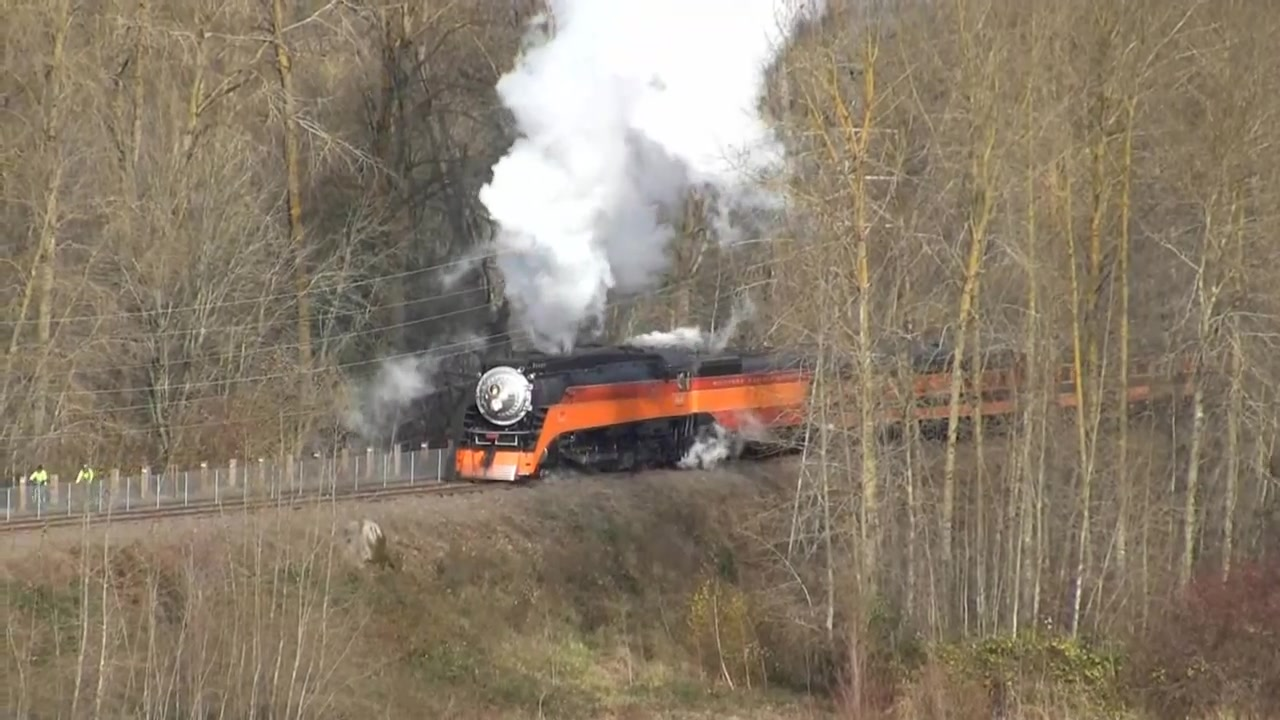train: (448, 343, 1229, 490)
